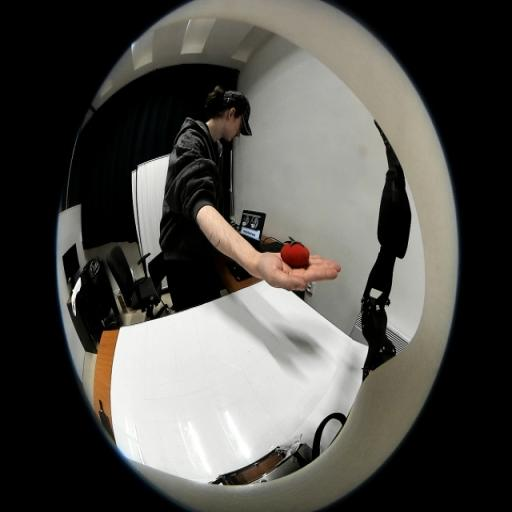Tomato: (280, 240, 310, 267)
